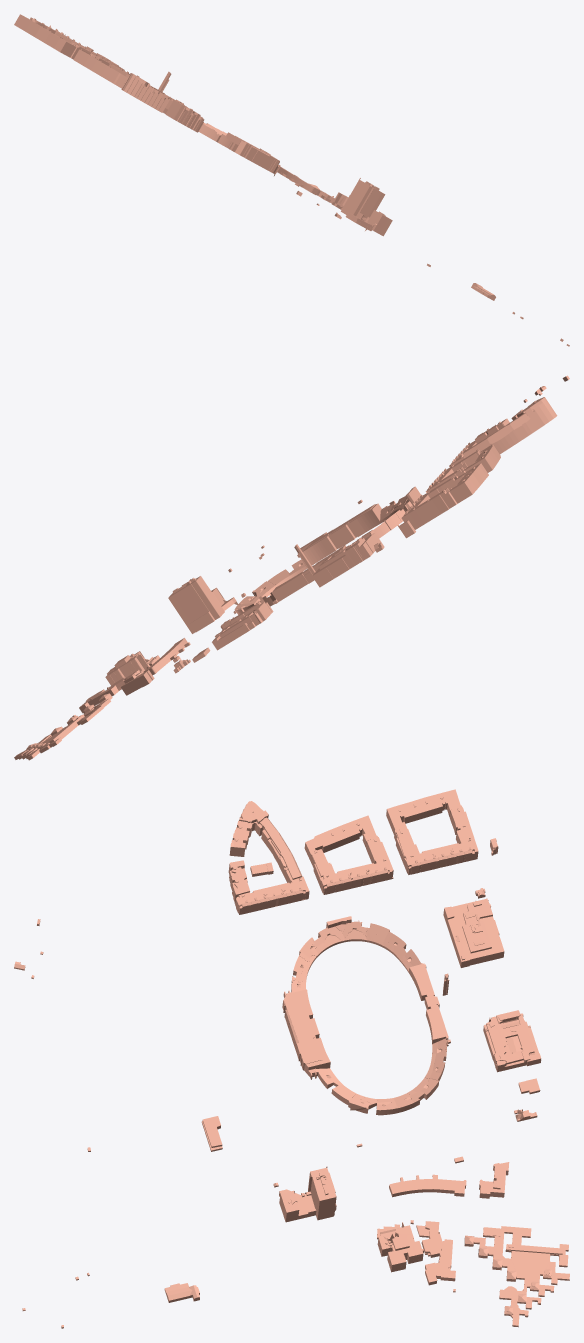
3 views of the same model, one above another, from view 1: azimuth 30°, elevation 25°; view 2: azimuth 150°, elevation 25°; view 3: azimuth 270°, elevation 25° (orthographic). The views are drawn at different scales.
Size of the model in its own units: 1.84e+07 by 1.4e+07 by 2.05e+07.
